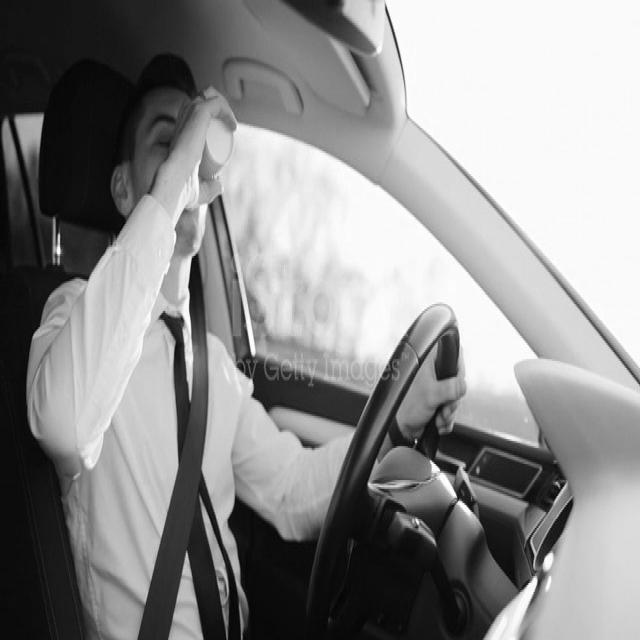Drinking: (91, 28, 251, 307)
